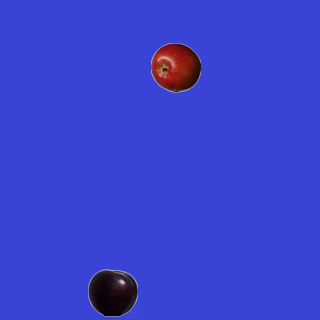Apple Braeburn: (150, 42, 200, 92)
Cherry Wax Black: (87, 267, 137, 317)
